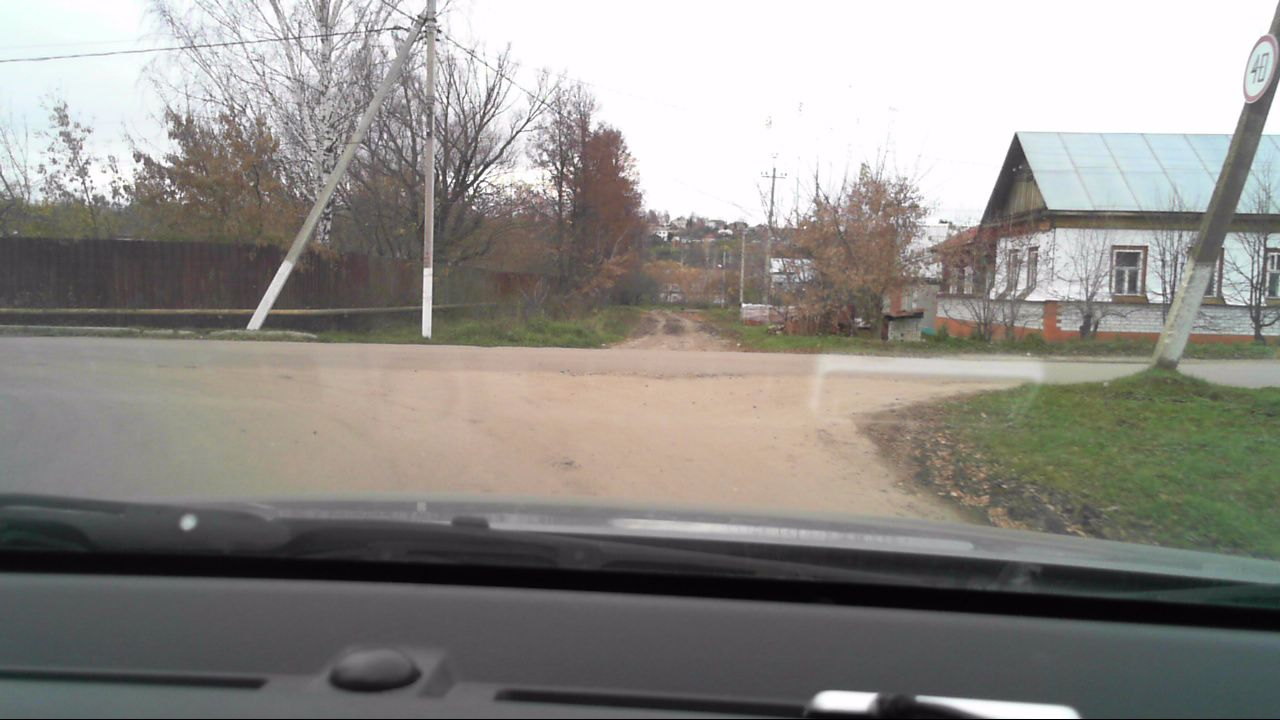speed_warning_40: (1238, 34, 1279, 105)
